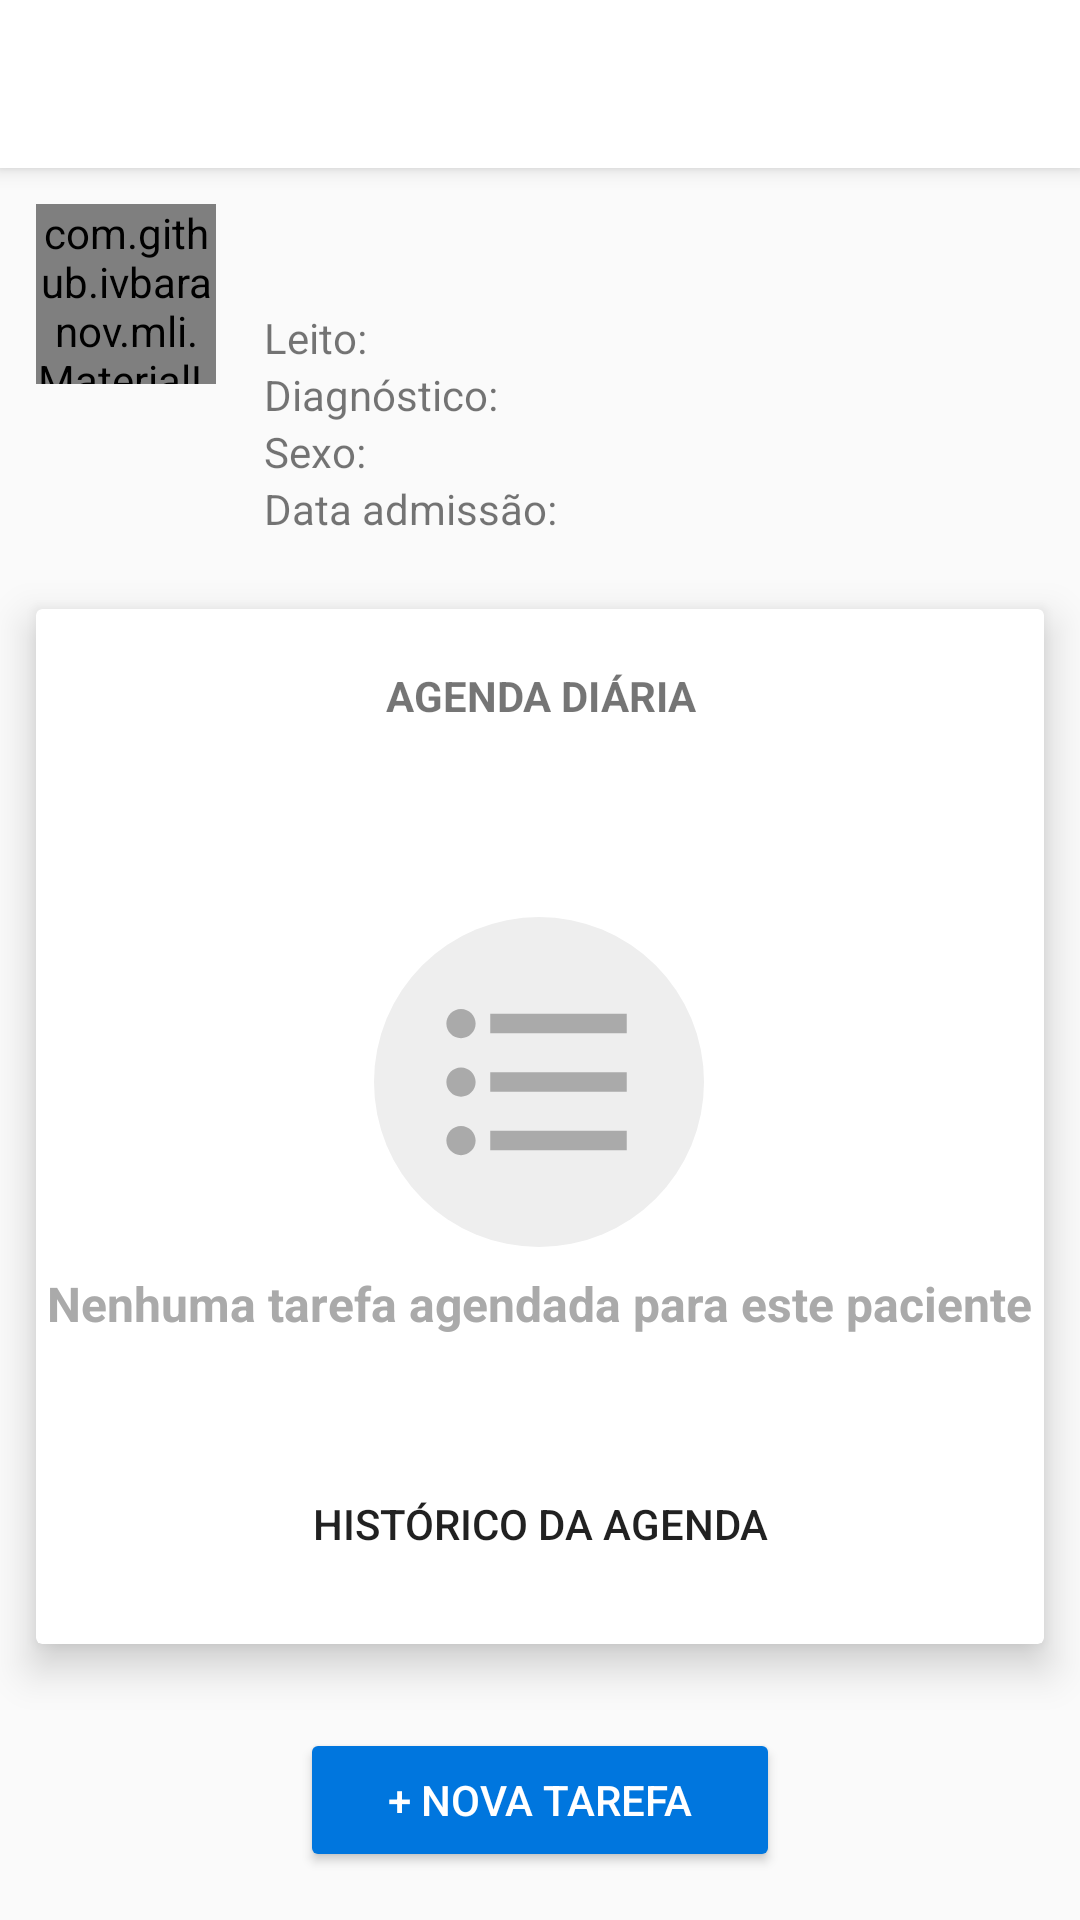

Point at icon controls on the screen. Image size 1080px×1920px, points as [x,y].
format list bulleted: [539,1082]
